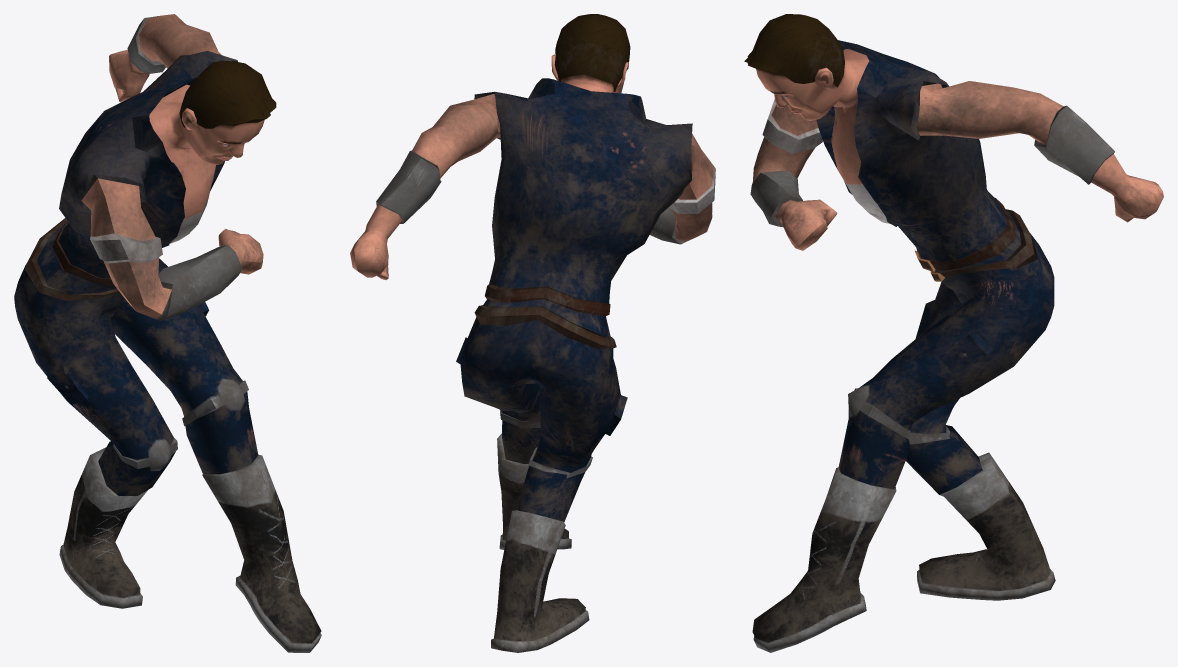
File: Anim_dash_jugador.0021.obj
3 views of the same model, side by side, from view 1: azimuth 30°, elevation 25°; view 2: azimuth 150°, elevation 25°; view 3: azimuth 270°, elevation 25° (orthographic). The views are drawn at different scales.
Parts seen in each view (by area): view 1: polySurface1; view 2: polySurface1; view 3: polySurface1.
Part boxes in pixels (box(x1,y1,x2,y2)): polySurface1: box(14, 14, 321, 652); polySurface1: box(350, 14, 715, 652); polySurface1: box(744, 14, 1163, 652).
Size of the model in its own units: 3.09 by 8.09 by 5.13.
